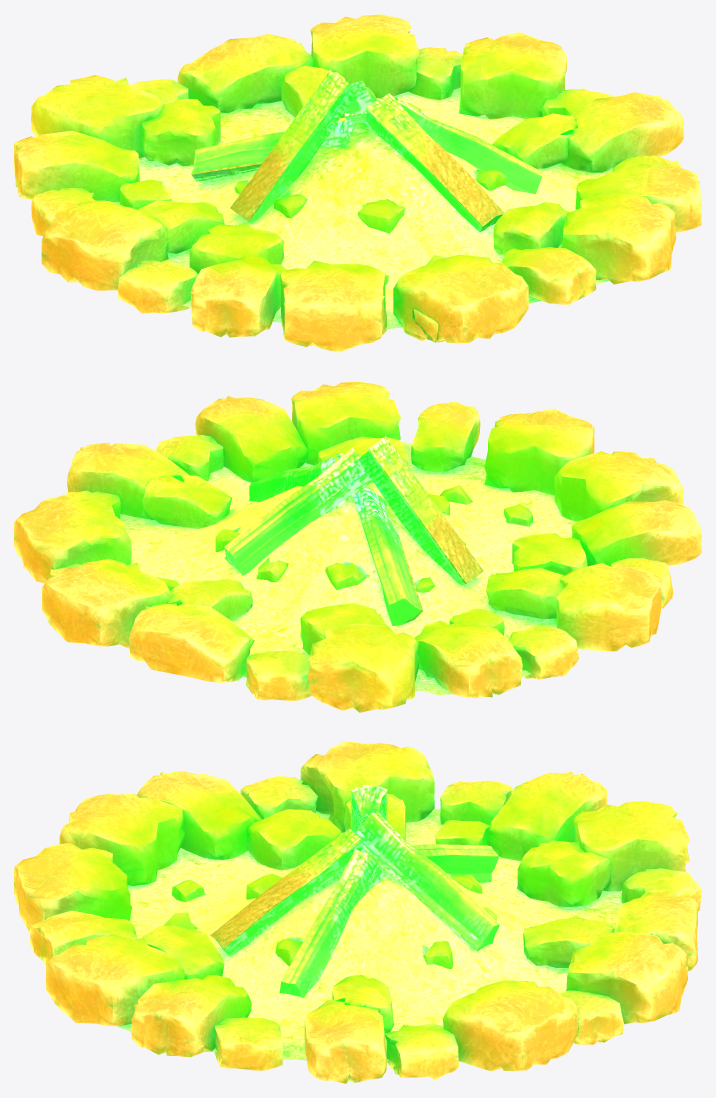
File: SM_FirePit_01.fbx
3 views of the same model, one above another, from view 1: azimuth 30°, elevation 25°; view 2: azimuth 150°, elevation 25°; view 3: azimuth 270°, elevation 25° (orthographic). The views are drawn at different scales.
Visible parts, largest first — view 1: SM_FirePit_01_LOD0; view 2: SM_FirePit_01_LOD0; view 3: SM_FirePit_01_LOD0.
Part boxes in pixels (left/top/right/bottom): SM_FirePit_01_LOD0: left=14, top=14, right=701, bottom=352; SM_FirePit_01_LOD0: left=14, top=381, right=701, bottom=712; SM_FirePit_01_LOD0: left=14, top=741, right=701, bottom=1083.
Bounding box in the file's own units: 88.89 × 84.92 × 21.62.
